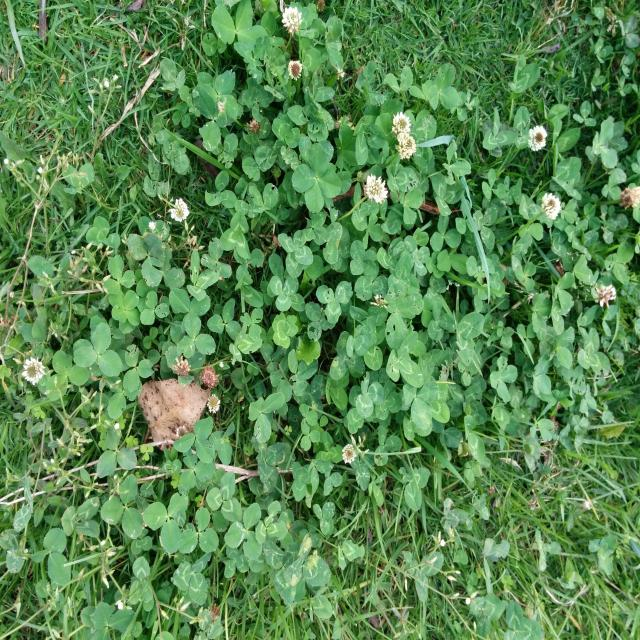Four Leaf Clover: (291, 143, 342, 213), (490, 356, 518, 402), (109, 289, 138, 326)
